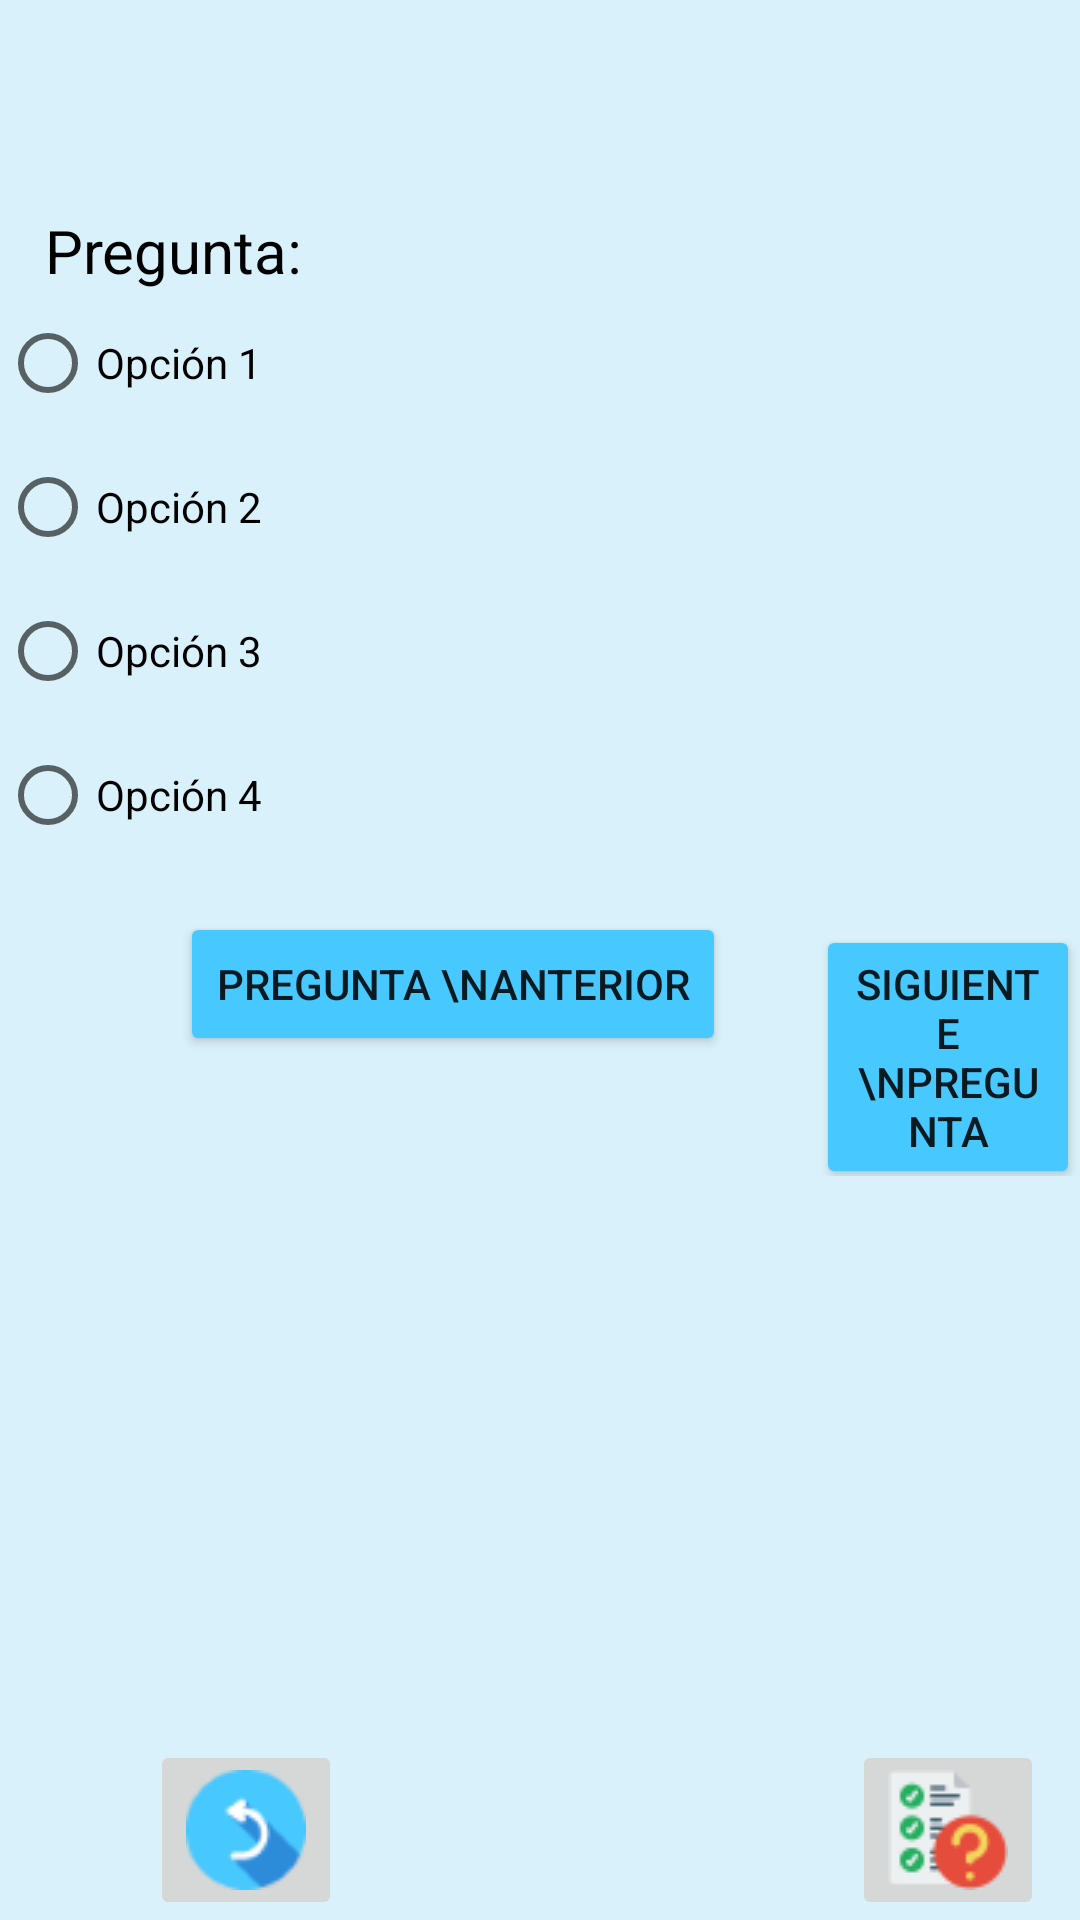

Icon click points for this 1080×1920 phone screenshot, format point (x, y):
flecha hacia atras: point (246, 1830)
